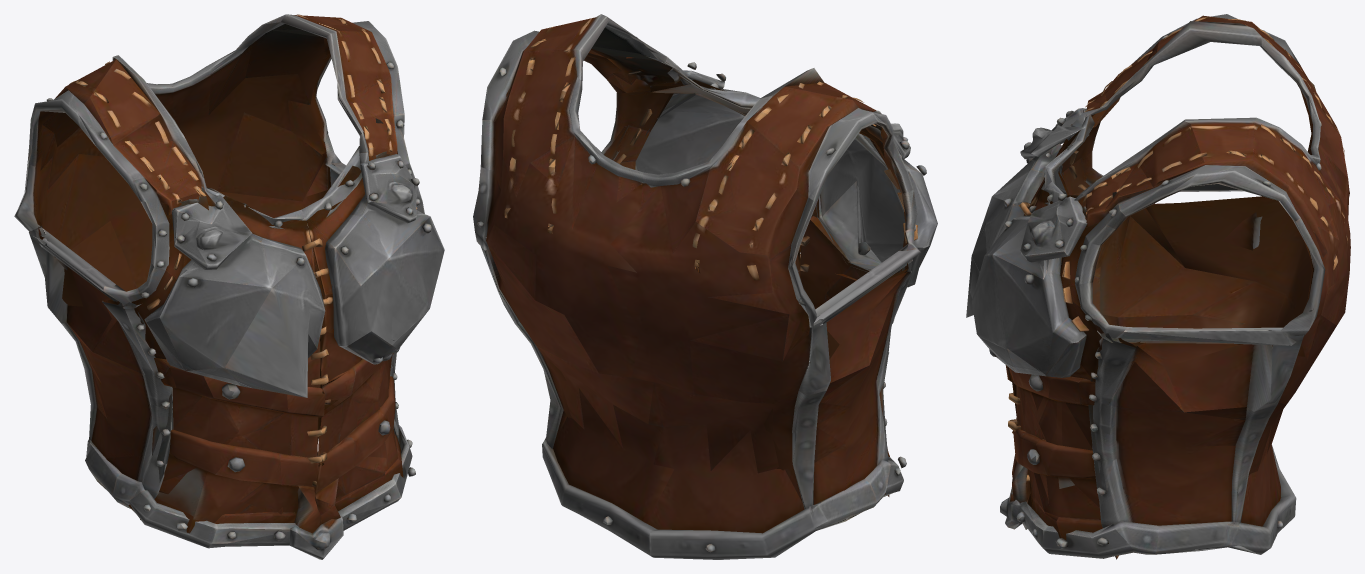
File: iron-body-armor.glb
3 renders of one model, left to right at view 1: azimuth 30°, elevation 25°; view 2: azimuth 150°, elevation 25°; view 3: azimuth 270°, elevation 25°, orthographic. The views are drawn at different scales.
Visible parts, largest first — view 1: Module_native_iron_body_armor; view 2: Module_native_iron_body_armor; view 3: Module_native_iron_body_armor.
Part boxes in pixels (bbox=[...]): Module_native_iron_body_armor: bbox=[14, 14, 444, 559]; Module_native_iron_body_armor: bbox=[473, 14, 937, 559]; Module_native_iron_body_armor: bbox=[966, 14, 1350, 559].
Bounding box in the file's own units: 0.3744 × 0.4928 × 0.3737.
Materials: 1 (1 with a texture image).
